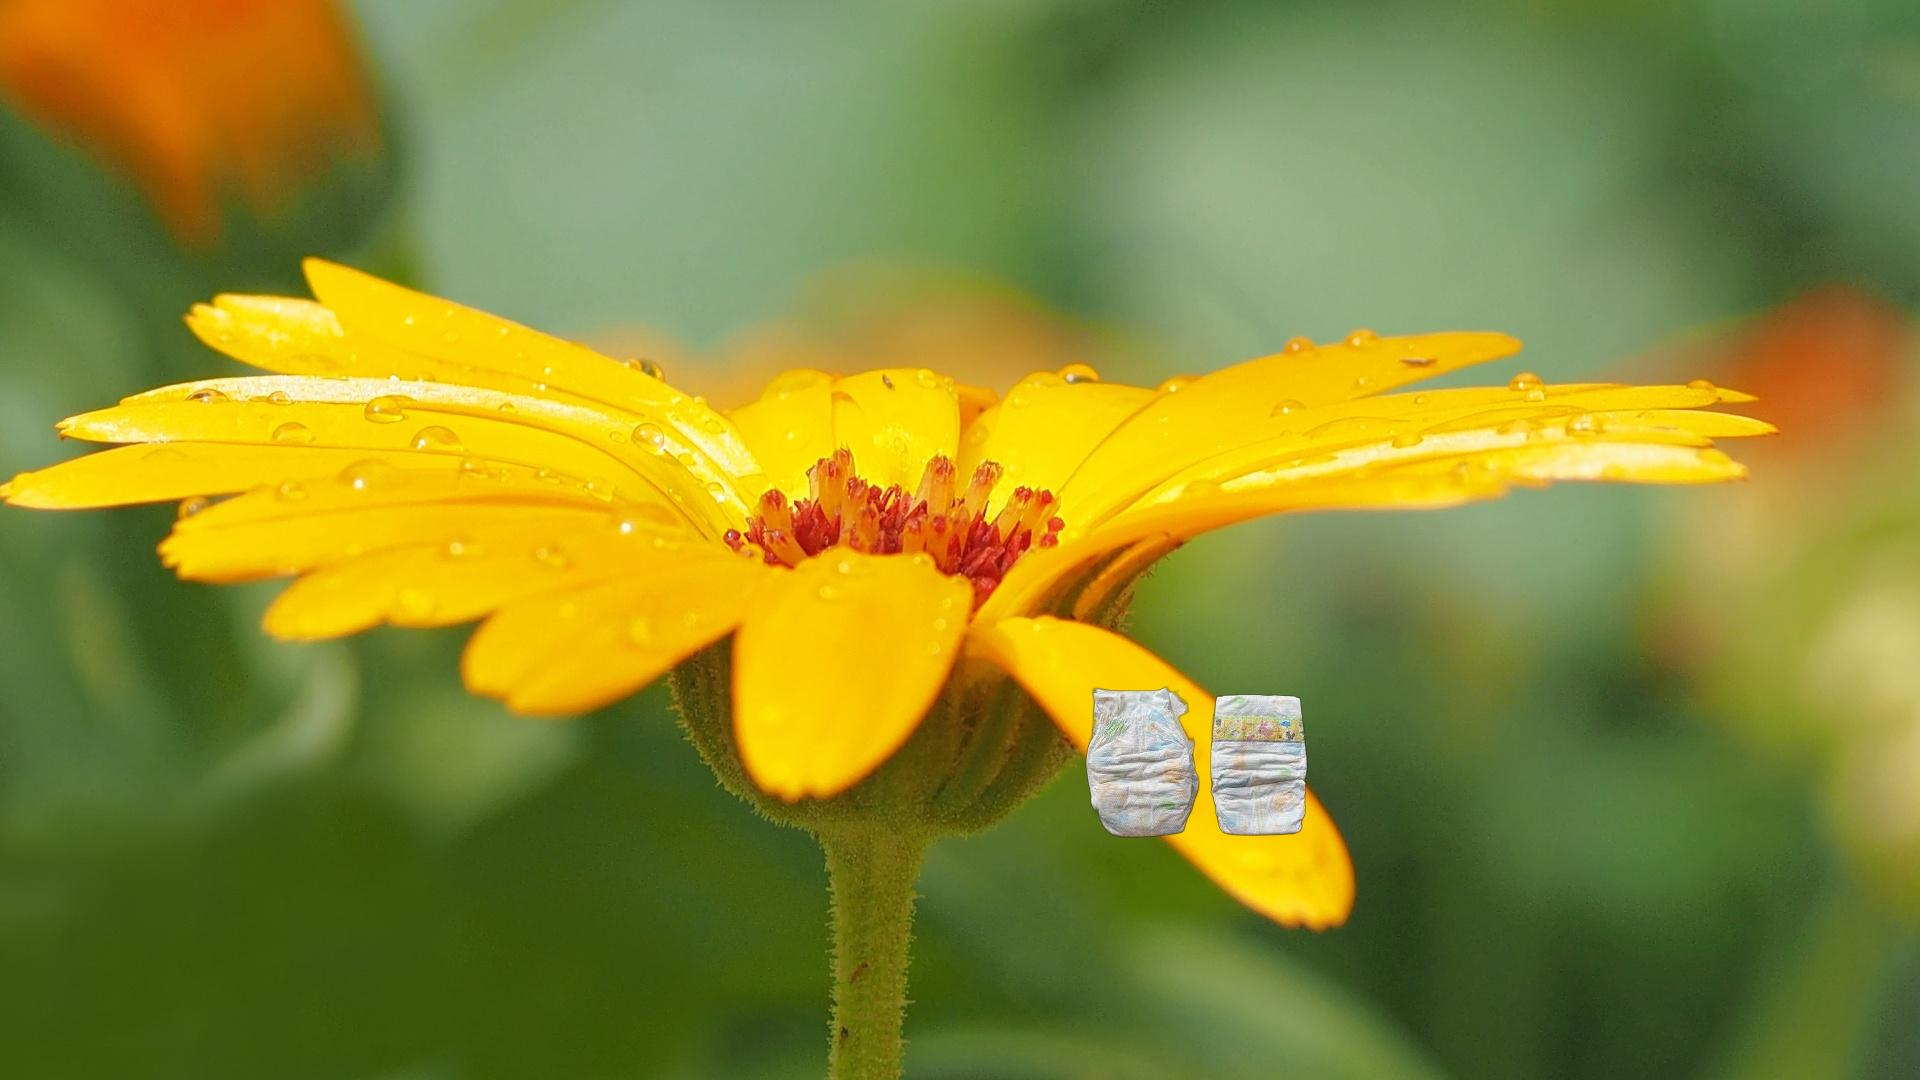trash: (1083, 684, 1309, 840)
